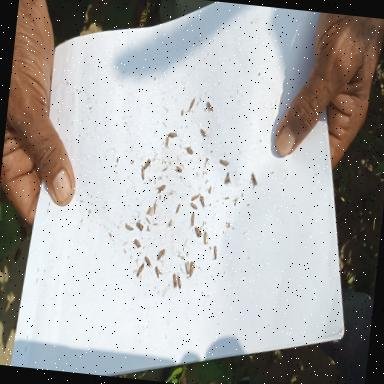pbw: (142, 252, 154, 270), (249, 170, 259, 191), (136, 258, 146, 279), (192, 225, 204, 238), (199, 128, 211, 140), (170, 272, 178, 290), (188, 95, 196, 113), (184, 260, 191, 280), (155, 248, 165, 262), (189, 212, 196, 231), (154, 183, 166, 194), (198, 194, 206, 209), (188, 261, 194, 280), (176, 272, 182, 290), (206, 100, 214, 112), (140, 164, 146, 180), (144, 157, 152, 169), (186, 146, 195, 156), (219, 159, 230, 167), (134, 238, 142, 249), (202, 230, 208, 244), (136, 221, 144, 231), (125, 222, 135, 230), (190, 194, 199, 202), (174, 202, 180, 214), (154, 266, 160, 278), (168, 132, 180, 138), (164, 134, 169, 148), (213, 246, 218, 260), (190, 202, 198, 210), (226, 172, 230, 186), (175, 166, 183, 172), (152, 202, 156, 214)
